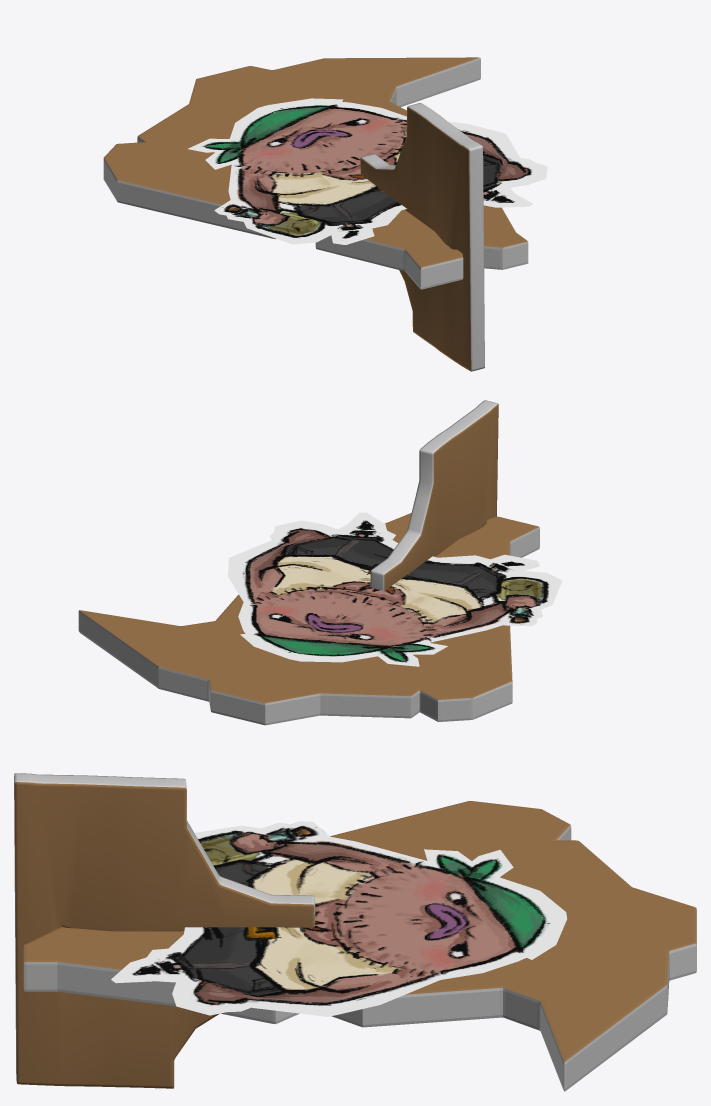
File: SM_chara_Mouss.fbx
3 renders of one model, top to bottom at view 1: azimuth 30°, elevation 25°; view 2: azimuth 150°, elevation 25°; view 3: azimuth 270°, elevation 25°, orthographic. The views are drawn at different scales.
Visible parts, largest first — view 1: SM_chara_Mouss; view 2: SM_chara_Mouss; view 3: SM_chara_Mouss.
Boxes of the visible parts, left/top/right/bottom form: SM_chara_Mouss: left=103, top=57, right=547, bottom=371; SM_chara_Mouss: left=78, top=400, right=562, bottom=725; SM_chara_Mouss: left=14, top=773, right=696, bottom=1091.
Size of the model in its own units: 200 by 100 by 203.
